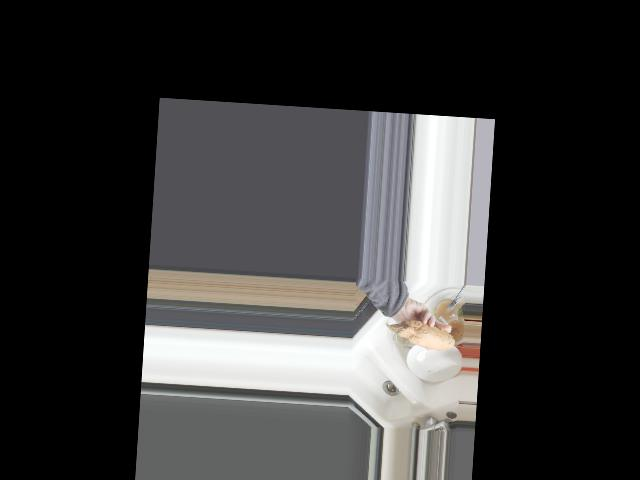sweet_potato: (384, 318, 455, 353)
